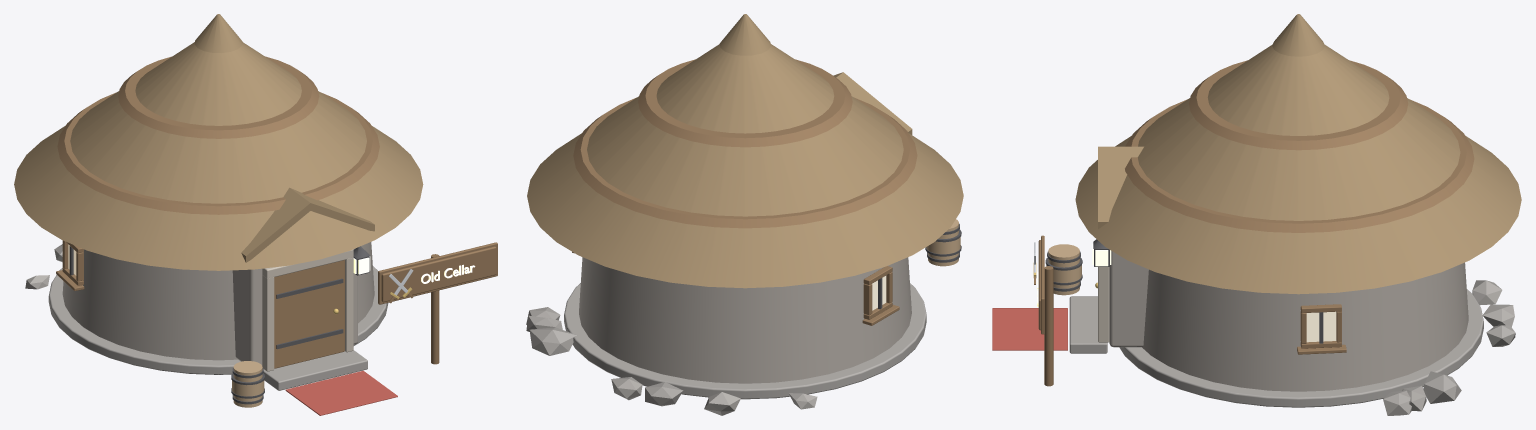
The model's file is old_cellar.fbx.
3 views of the same model, side by side, from view 1: azimuth 30°, elevation 25°; view 2: azimuth 150°, elevation 25°; view 3: azimuth 270°, elevation 25° (orthographic). The views are drawn at different scales.
Visible parts, largest first — view 1: old_cellar; view 2: old_cellar; view 3: old_cellar.
Boxes of the visible parts, x1,y1,x2,y2 form: old_cellar: [14, 14, 497, 415]; old_cellar: [526, 14, 963, 415]; old_cellar: [992, 14, 1521, 415].
Bounding box in the file's own units: 11.8 × 9.5 × 14.
